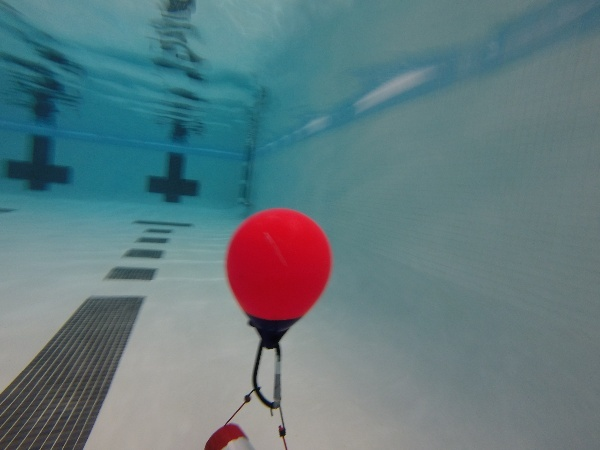buoy_red: (220, 202, 338, 353)
